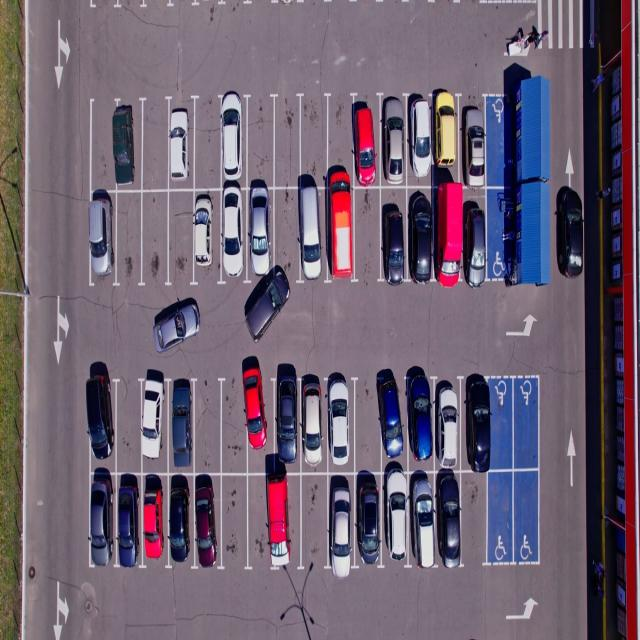space-empty: (298, 472, 330, 572), (139, 190, 171, 286), (218, 376, 249, 475), (192, 97, 224, 192), (115, 379, 146, 475), (193, 378, 224, 473), (168, 188, 198, 286), (140, 98, 171, 192), (114, 190, 144, 286), (352, 376, 382, 472), (351, 186, 381, 280), (271, 188, 302, 278), (219, 474, 248, 570), (247, 96, 277, 187), (513, 470, 543, 560), (462, 470, 490, 564), (328, 98, 357, 188), (514, 377, 542, 470), (486, 470, 514, 562), (248, 472, 274, 570), (274, 96, 302, 186), (299, 96, 326, 187), (489, 377, 514, 474), (91, 101, 116, 186), (485, 92, 506, 188)
space-occupied: (268, 470, 302, 572), (245, 372, 279, 472), (167, 96, 200, 192), (139, 378, 171, 476), (326, 374, 358, 471), (84, 374, 116, 471), (192, 477, 224, 573), (216, 187, 248, 281), (113, 98, 145, 192), (431, 183, 462, 280), (298, 374, 329, 470), (190, 189, 222, 282), (325, 474, 356, 570), (85, 191, 116, 286), (350, 471, 381, 566), (378, 473, 410, 565), (273, 375, 303, 473), (169, 378, 199, 474), (296, 186, 327, 278), (246, 186, 277, 277), (326, 185, 356, 278), (431, 378, 461, 471), (378, 376, 407, 472), (406, 376, 435, 472), (407, 184, 436, 280), (406, 92, 436, 184), (378, 186, 407, 280), (169, 471, 197, 568), (115, 472, 144, 563), (219, 96, 247, 190), (432, 470, 460, 564), (141, 472, 169, 566), (353, 96, 382, 186), (431, 94, 460, 184), (379, 96, 407, 188), (465, 378, 492, 472), (409, 470, 436, 562), (89, 474, 116, 564), (464, 96, 488, 186)
